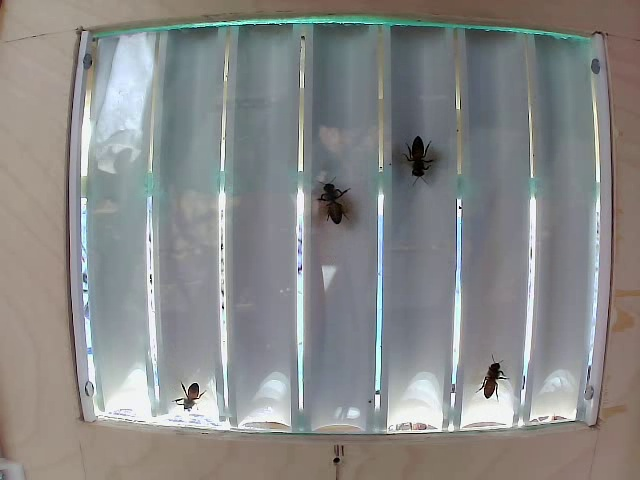bee: (315, 181, 362, 231), (472, 351, 511, 409), (398, 139, 433, 192)
